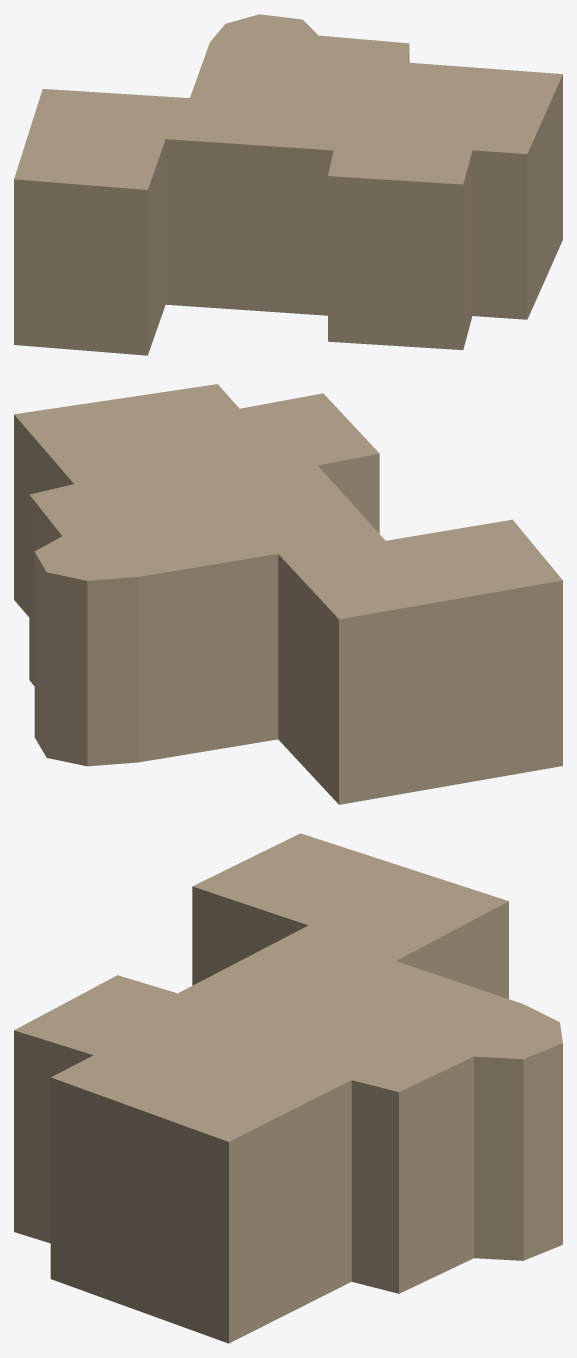
File: bld_99549194.dae
The picture shows the model from 3 angles, top to bottom: view 1: azimuth 30°, elevation 25°; view 2: azimuth 150°, elevation 25°; view 3: azimuth 270°, elevation 25°; orthographic projection. The views are drawn at different scales.
Visible parts, largest first — view 1: bld_99549194; view 2: bld_99549194; view 3: bld_99549194.
Boxes of the visible parts, x1,y1,x2,y2 form: bld_99549194: (14, 14, 562, 355); bld_99549194: (14, 384, 562, 804); bld_99549194: (14, 833, 562, 1343).
Size of the model in its own units: 26.26 by 19.74 by 8.
